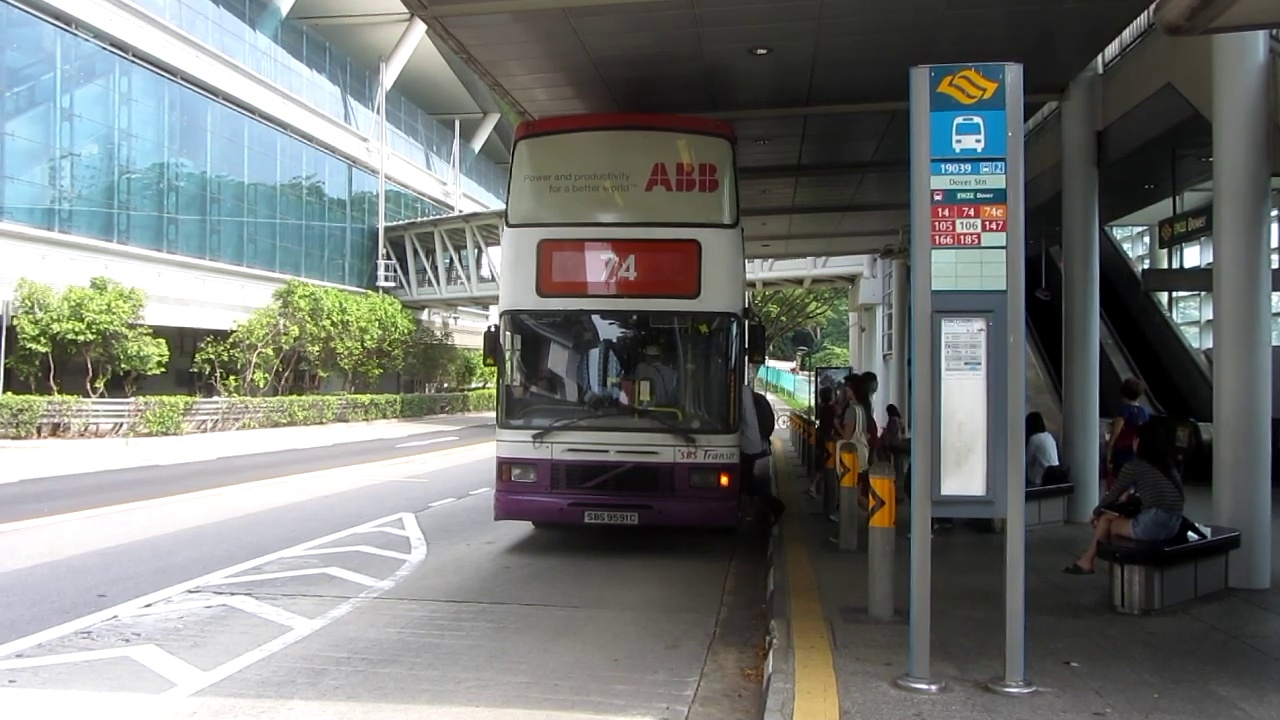bus panel: (534, 237, 703, 301)
